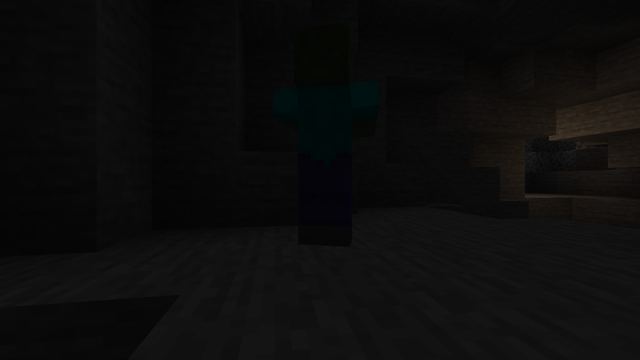zombies: (293, 24, 364, 251)
